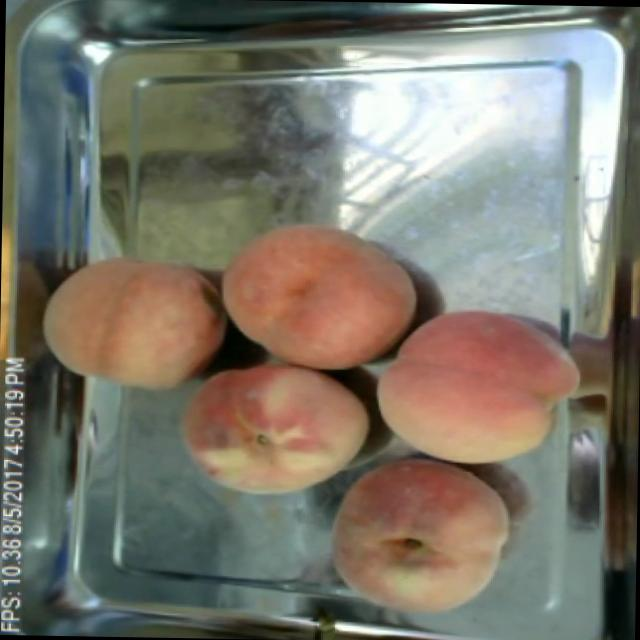Fruit: (366, 296, 588, 478), (317, 444, 522, 628), (212, 210, 429, 372), (170, 354, 379, 504), (32, 243, 230, 401)
